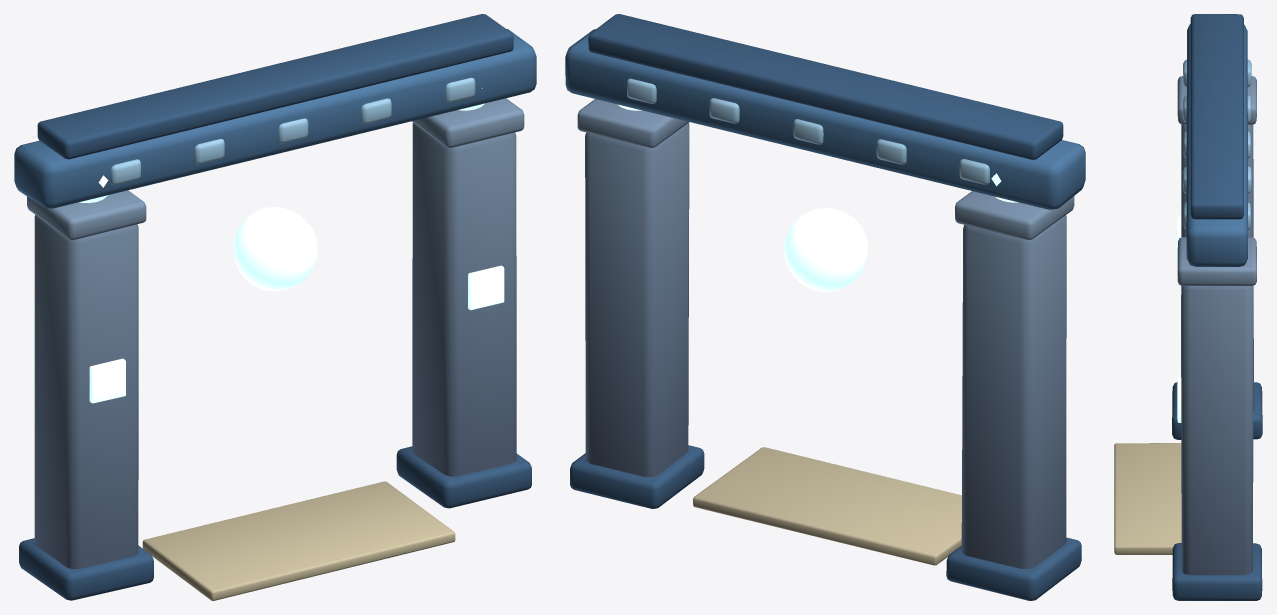
3 renders of one model, left to right at view 1: azimuth 30°, elevation 25°; view 2: azimuth 150°, elevation 25°; view 3: azimuth 270°, elevation 25°, orthographic. The views are drawn at different scales.
Parts seen in each view (by area): view 1: gate_6925ab0a; view 2: gate_6925ab0a; view 3: gate_6925ab0a.
Boxes of the visible parts, x1,y1,x2,y2 form: gate_6925ab0a: [14, 14, 536, 600]; gate_6925ab0a: [565, 14, 1085, 600]; gate_6925ab0a: [1114, 14, 1262, 600].
Bounding box in the file's own units: 4.87 × 4.25 × 1.44.
